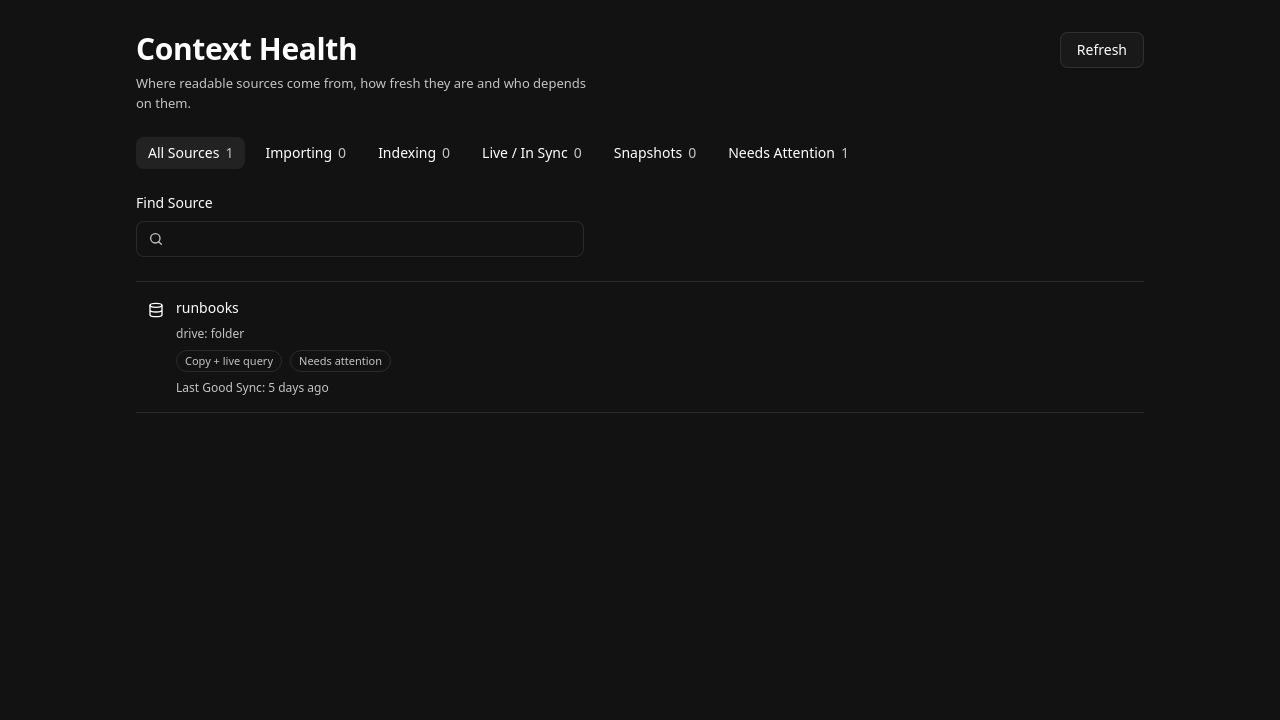
Test case: context health reads server-filtered sources and addresses selection
Click the button "runbooks". click: (207, 307)
box: [136,282,1144,412]
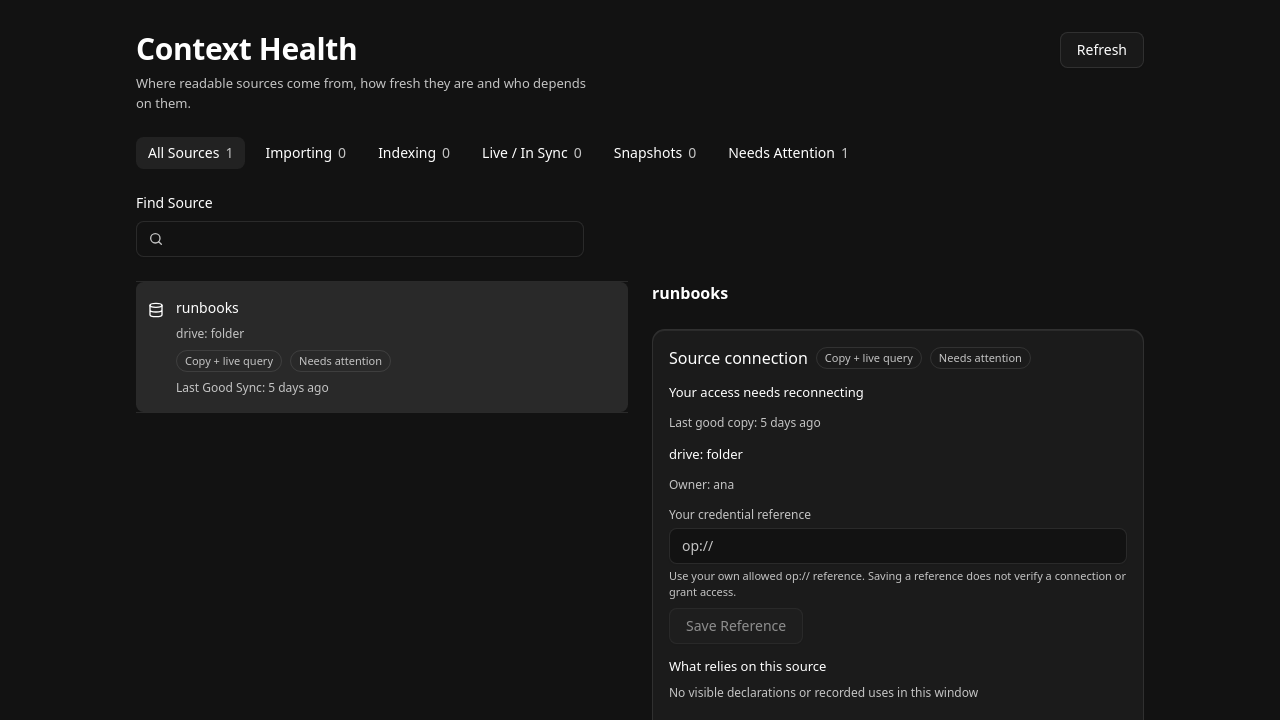
Expected: the text "Your access needs reconnecting" is shown, [669,382,864,400]
